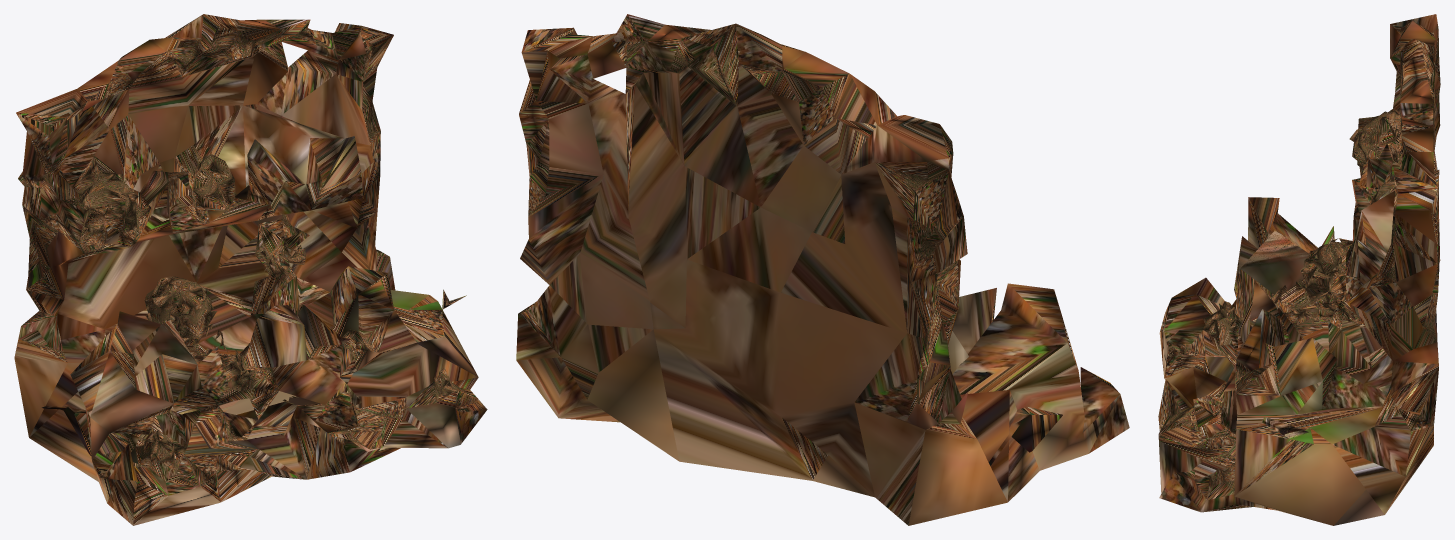
File: bq_apothecary.lod2.glb
3 views of the same model, side by side, from view 1: azimuth 30°, elevation 25°; view 2: azimuth 150°, elevation 25°; view 3: azimuth 270°, elevation 25° (orthographic). The views are drawn at different scales.
Size of the model in its own units: 1.92 by 1.75 by 1.15.
Materials: 1 (1 with a texture image).
